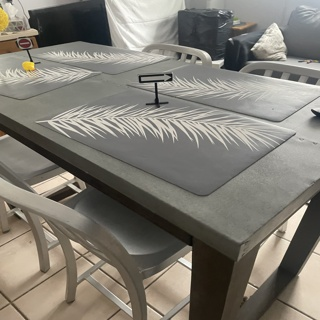sign_oneway_right: (137, 71, 173, 82)
